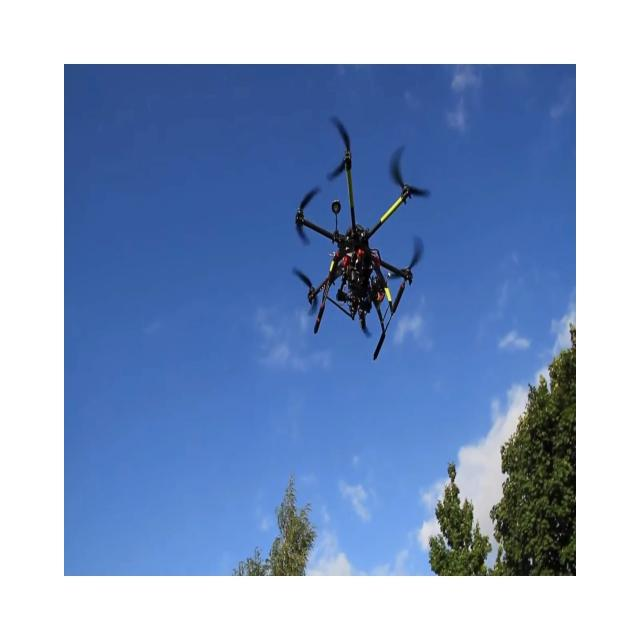drone: (292, 114, 430, 361)
